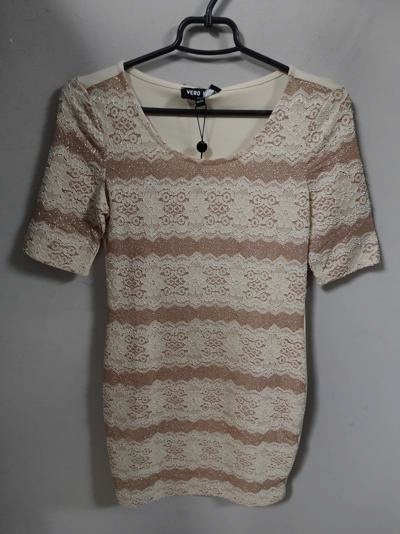Dress: (36, 51, 388, 502)
